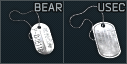Dogtag BEAR: (0, 0, 127, 64)
